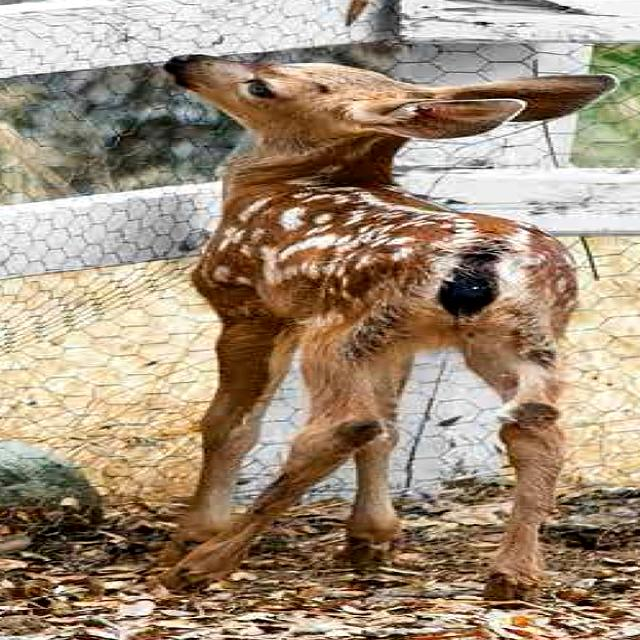deer: (133, 40, 640, 640)
